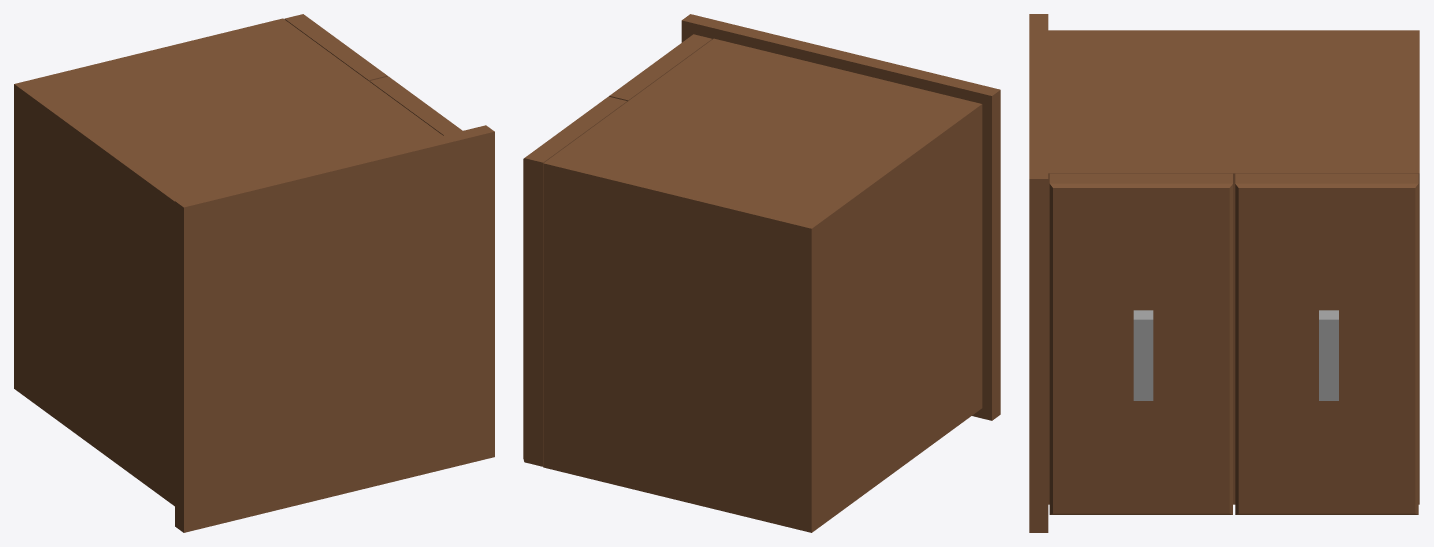
Rendered from Drawer.fbx.
The picture shows the model from 3 angles, left to right: view 1: azimuth 30°, elevation 25°; view 2: azimuth 150°, elevation 25°; view 3: azimuth 270°, elevation 25°; orthographic projection. The views are drawn at different scales.
Parts seen in each view (by area): view 1: Drawer; view 2: Drawer; view 3: Drawer.
Part boxes in pixels (x1=…): Drawer: x1=14, y1=14, x2=494, y2=532; Drawer: x1=523, y1=14, x2=1000, y2=532; Drawer: x1=1029, y1=14, x2=1419, y2=532.
Size of the model in its own units: 205 by 200 by 200.
